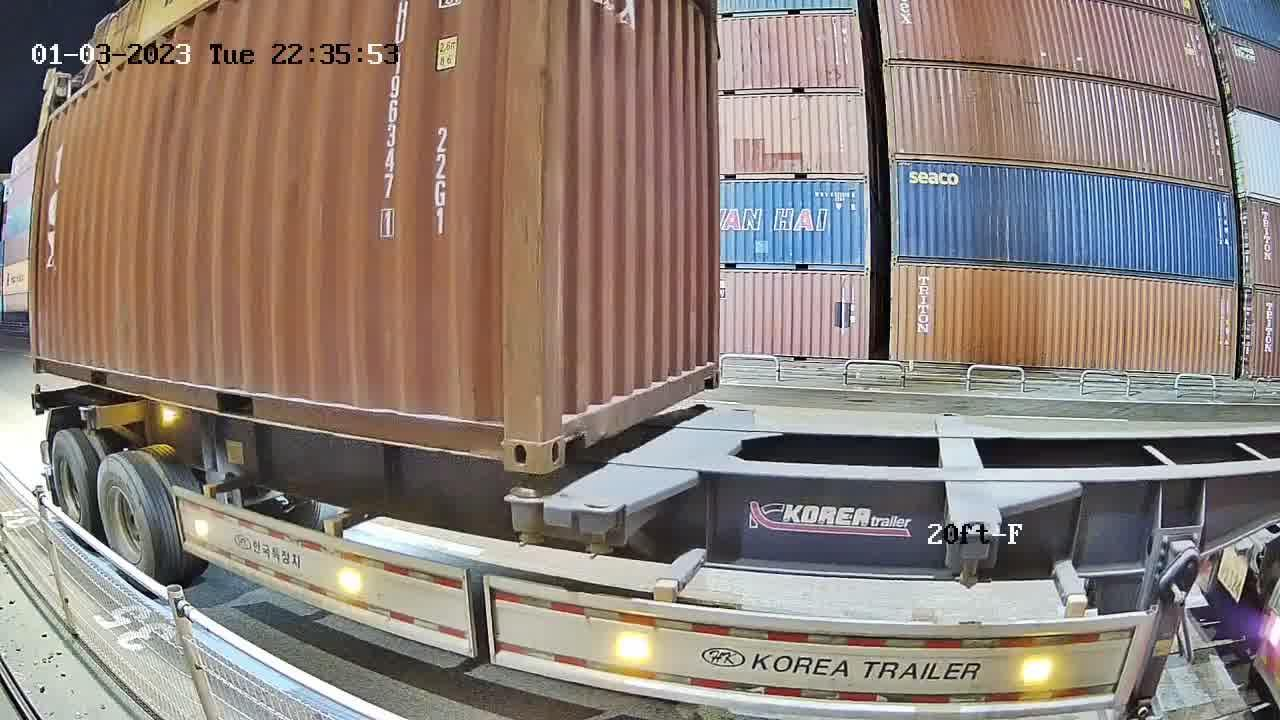Chassis: (578, 406, 756, 514)
Cone: (510, 479, 547, 544), (578, 500, 618, 557)
Hole_L: (542, 382, 592, 475)
Hole_R: (470, 393, 542, 475), (697, 346, 721, 393)
Tire: (97, 457, 157, 590), (53, 436, 91, 536)
